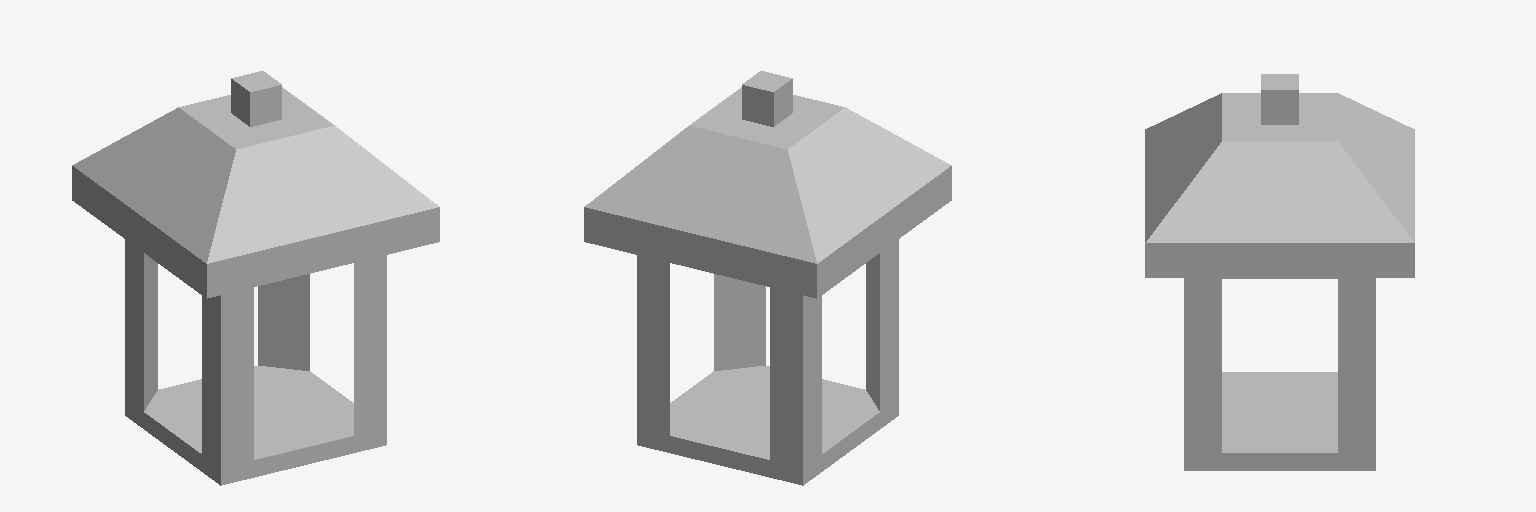
Rendered from runic_lamp.obj.
The picture shows the model from 3 angles: view 1: azimuth 30°, elevation 25°; view 2: azimuth 150°, elevation 25°; view 3: azimuth 270°, elevation 25°; orthographic projection.
Parts seen in each view (by area): view 1: Lamp_Top_Cube.006; view 2: Lamp_Top_Cube.006; view 3: Lamp_Top_Cube.006.
Boxes of the visible parts, x1=… form: Lamp_Top_Cube.006: x1=72, y1=71, x2=439, y2=485; Lamp_Top_Cube.006: x1=584, y1=71, x2=951, y2=485; Lamp_Top_Cube.006: x1=1145, y1=74, x2=1414, y2=470.
Bounding box in the file's own units: 0.4375 × 0.625 × 0.4375.